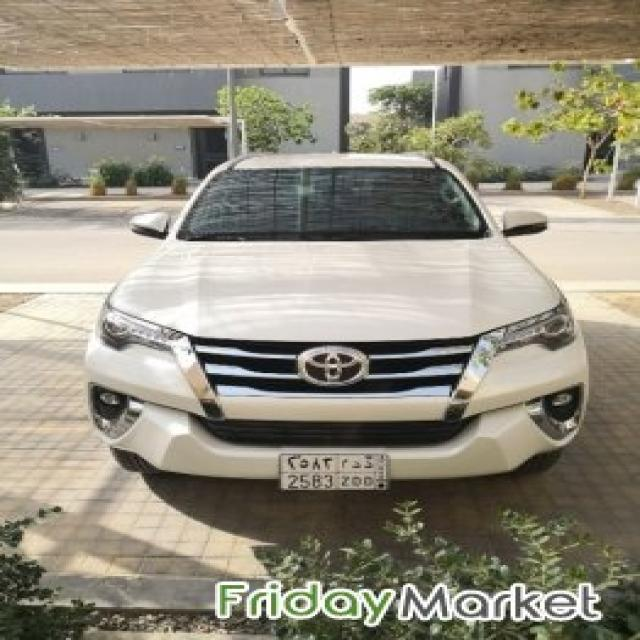license_plate: (276, 452, 391, 496)
